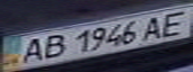1: (69, 27, 93, 54)
4: (106, 20, 127, 48)
6: (118, 17, 148, 46)
9: (87, 25, 112, 52)
A: (136, 12, 172, 42), (15, 35, 51, 65)
B: (36, 32, 69, 61)
E: (154, 7, 193, 38)
